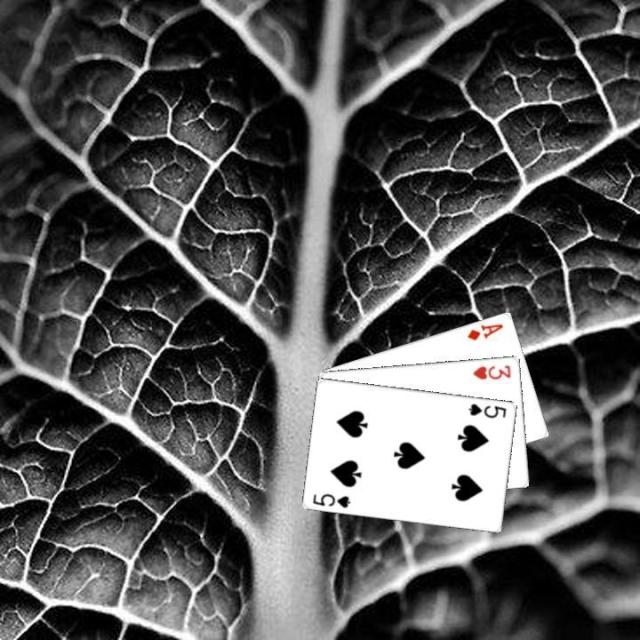3H: (469, 361, 513, 380)
5S: (465, 399, 508, 420), (309, 489, 353, 509)
AD: (463, 319, 505, 341)
